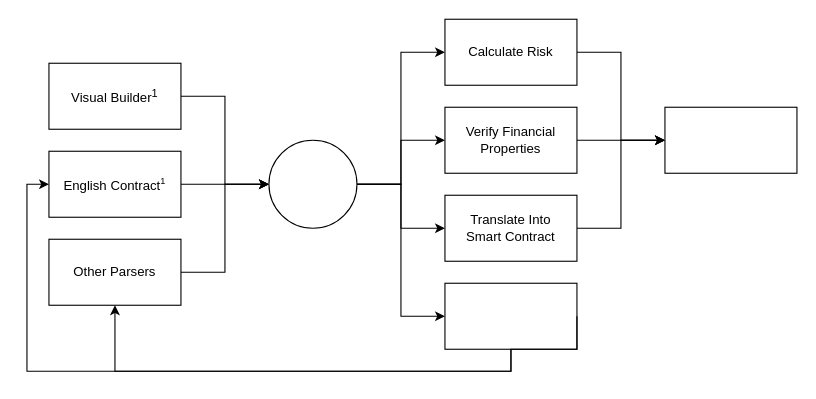
The diagram is 816 pixels wide and 399 high, and some of its shapes have lost their labels. The centre of each missing label's shape, as x and y in pixels:
"Add To Blockchain" goes at pixel 730 139.
"JSON Contract" goes at pixel 312 183.
"Translate Into Written Language" goes at pixel 510 315.
